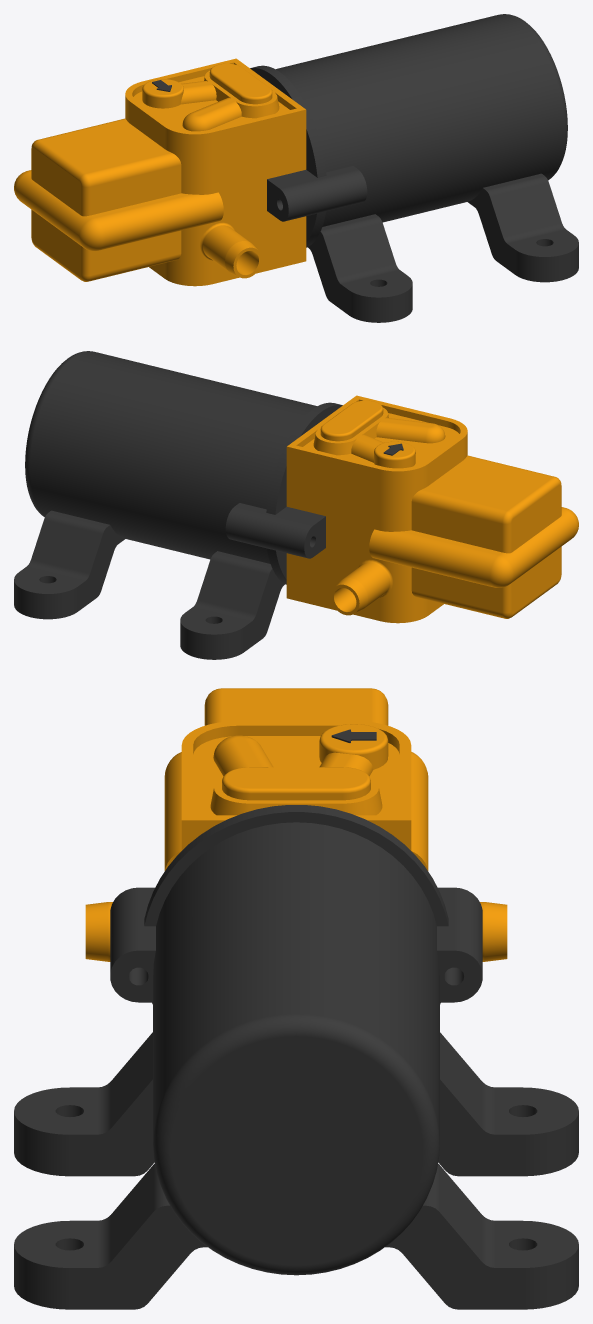
3 views of the same model, one above another, from view 1: azimuth 30°, elevation 25°; view 2: azimuth 150°, elevation 25°; view 3: azimuth 270°, elevation 25° (orthographic). The views are drawn at different scales.
Visible parts, largest first — view 1: MOTOR_Paint Matte Black #2_0, PUMP_Paint Matte Orange #1_0; view 2: MOTOR_Paint Matte Black #2_0, PUMP_Paint Matte Orange #1_0; view 3: MOTOR_Paint Matte Black #2_0, PUMP_Paint Matte Orange #1_0.
Part boxes in pixels (bbox=[...]): MOTOR_Paint Matte Black #2_0: bbox=[152, 14, 578, 322]; PUMP_Paint Matte Orange #1_0: bbox=[14, 58, 306, 286]; MOTOR_Paint Matte Black #2_0: bbox=[14, 351, 403, 659]; PUMP_Paint Matte Orange #1_0: bbox=[286, 395, 578, 623]; MOTOR_Paint Matte Black #2_0: bbox=[14, 729, 578, 1309]; PUMP_Paint Matte Orange #1_0: bbox=[85, 688, 507, 961].
Bounding box in the file's own units: 0.159 × 0.0615 × 0.0985.
